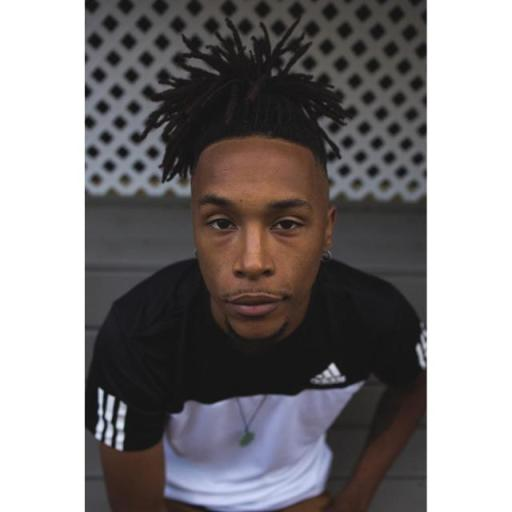Adidas: (306, 360, 348, 388)
